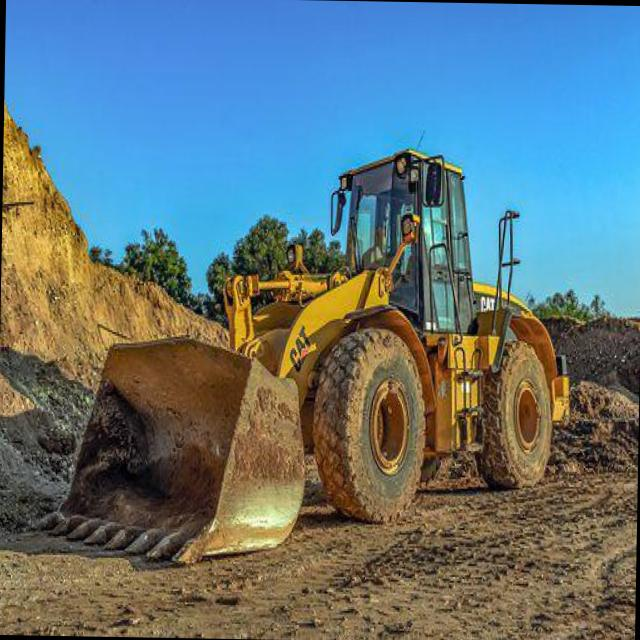pala cargadora: (24, 127, 574, 572)
